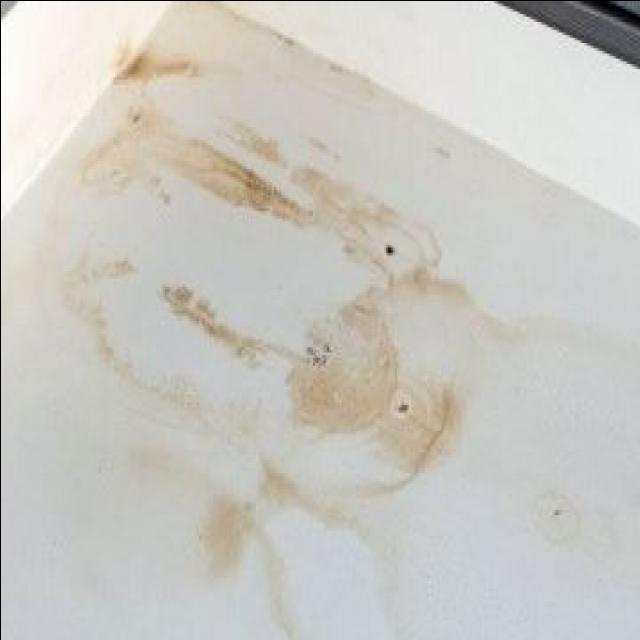Crack: (306, 340, 336, 367), (399, 404, 412, 416), (386, 245, 396, 260), (553, 509, 562, 522), (131, 115, 141, 122)
